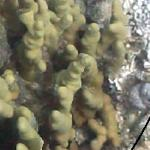alive: (19, 7, 147, 147)
